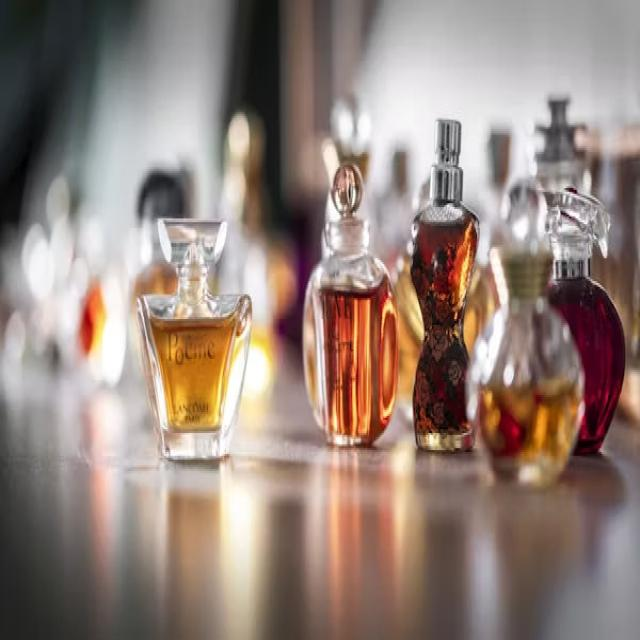Bottle: (468, 181, 583, 484), (138, 221, 251, 459), (303, 164, 397, 446), (411, 120, 477, 450), (213, 111, 284, 406), (546, 190, 625, 453), (127, 170, 189, 374), (463, 130, 510, 353), (133, 170, 187, 307), (392, 242, 424, 427), (534, 97, 590, 193), (376, 149, 413, 271), (323, 95, 371, 186)
